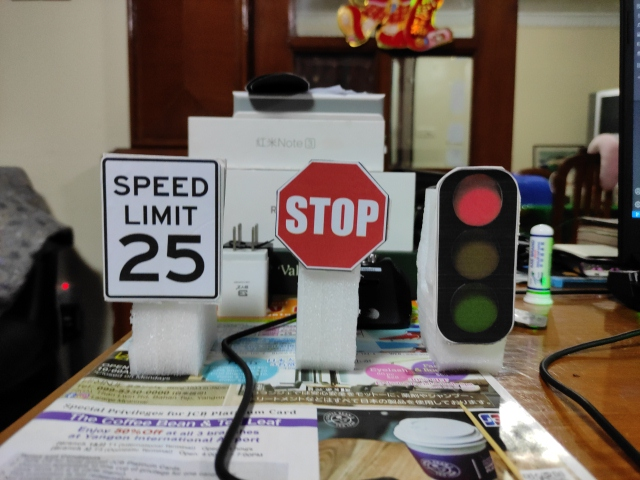Red Traffic Light: (436, 166, 519, 344)
Speed Limit 25: (101, 155, 221, 301)
Stop Sign: (275, 160, 390, 272)
